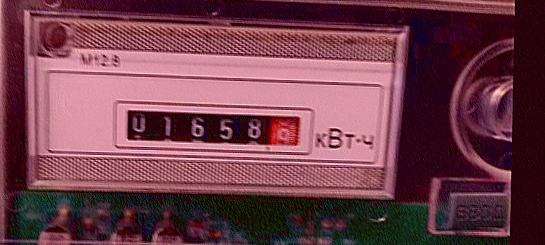0: (129, 112, 146, 133)
1: (159, 114, 173, 138)
5: (217, 117, 233, 141)
6: (188, 115, 206, 139)
8: (245, 117, 262, 140)
9: (274, 126, 290, 147)
screen: (109, 97, 317, 160)
